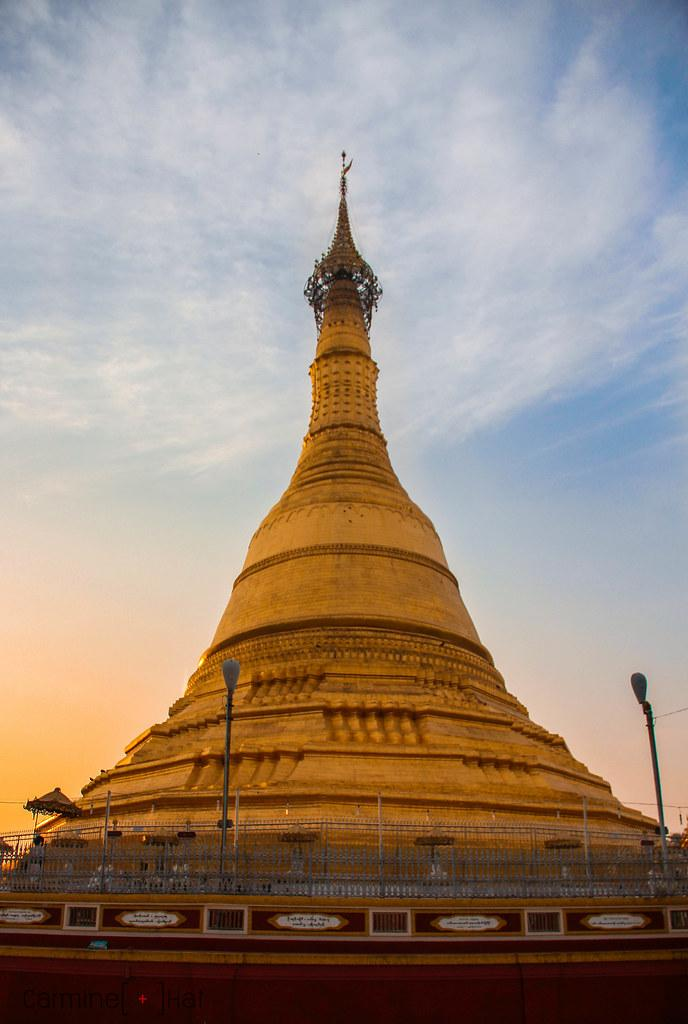temple: (33, 148, 669, 877)
